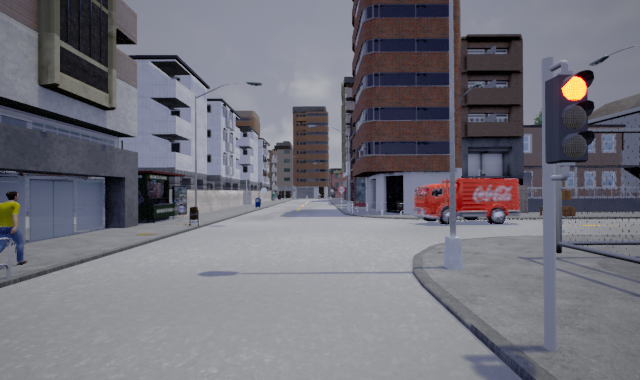pedestrian: (1, 185, 36, 269)
vehicle: (408, 177, 523, 226)
